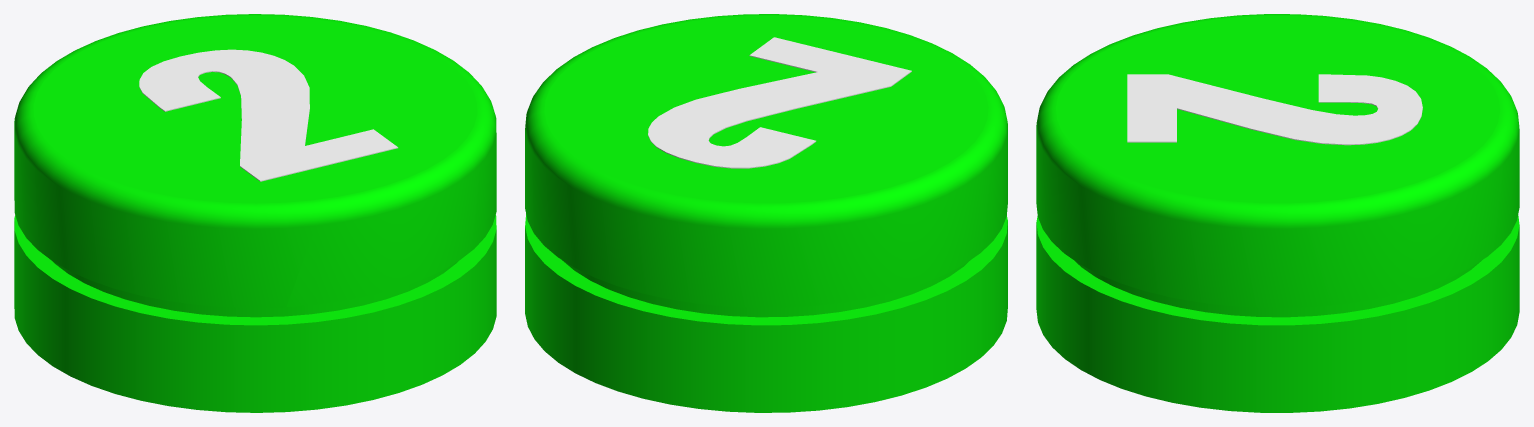
File: nubot_frame2_green.dae
3 renders of one model, left to right at view 1: azimuth 30°, elevation 25°; view 2: azimuth 150°, elevation 25°; view 3: azimuth 270°, elevation 25°, orthographic.
Visible parts, largest first — view 1: SketchUp (×3), instance_0; view 2: SketchUp (×3), instance_0; view 3: SketchUp (×3), instance_0.
Boxes of the visible parts, left/top/right/bottom form: SketchUp (×3): left=14, top=14, right=496, bottom=412; instance_0: left=139, top=49, right=398, bottom=181; SketchUp (×3): left=525, top=14, right=1007, bottom=412; instance_0: left=648, top=37, right=911, bottom=168; SketchUp (×3): left=1036, top=14, right=1519, bottom=412; instance_0: left=1127, top=74, right=1422, bottom=145.
Bounding box in the file's own units: 19.66 × 19.68 × 9.09.
